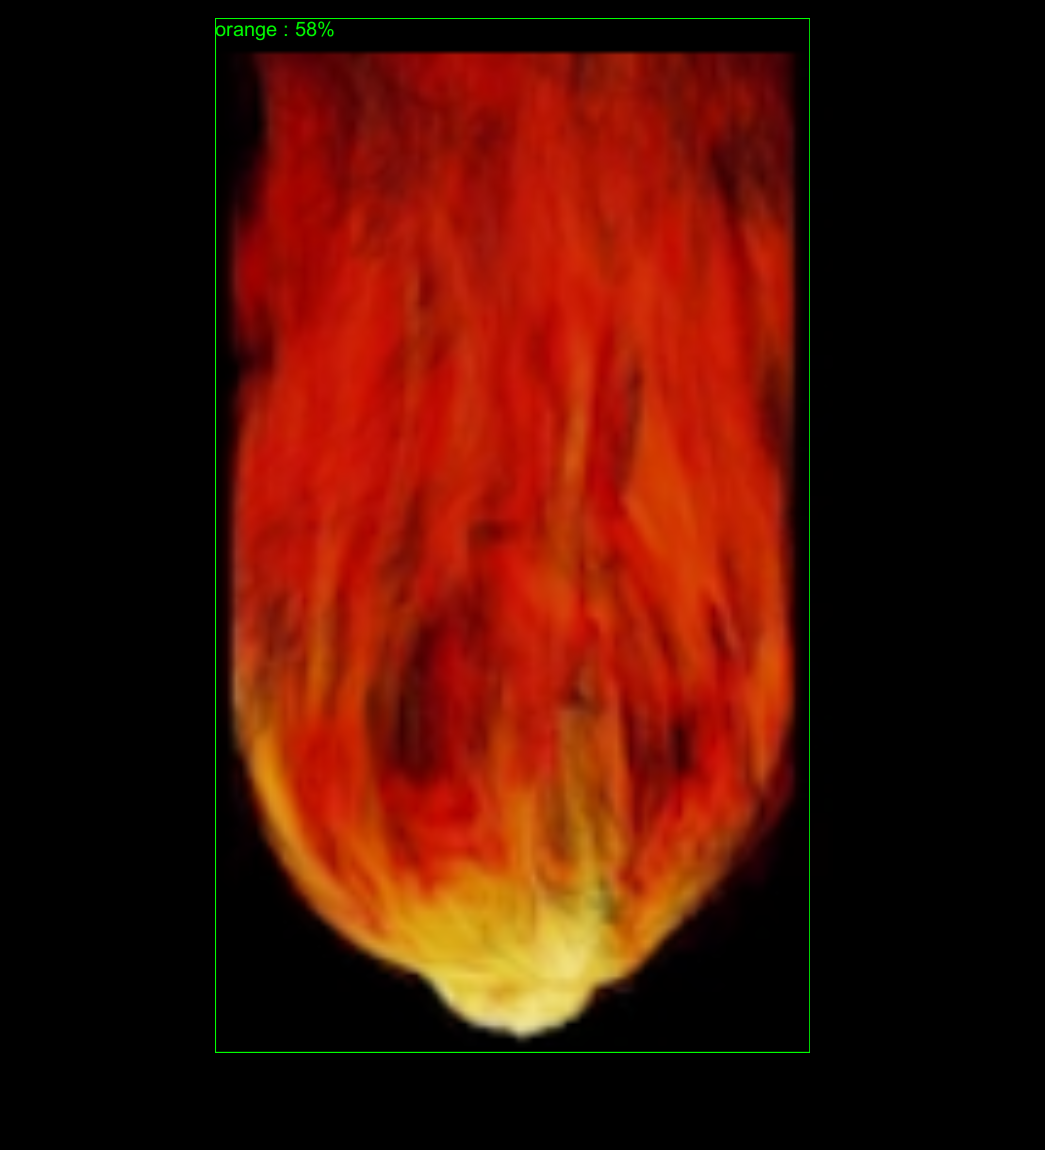flame: (196, 55, 826, 1072)
smoke: (251, 41, 791, 190), (354, 618, 480, 791)
